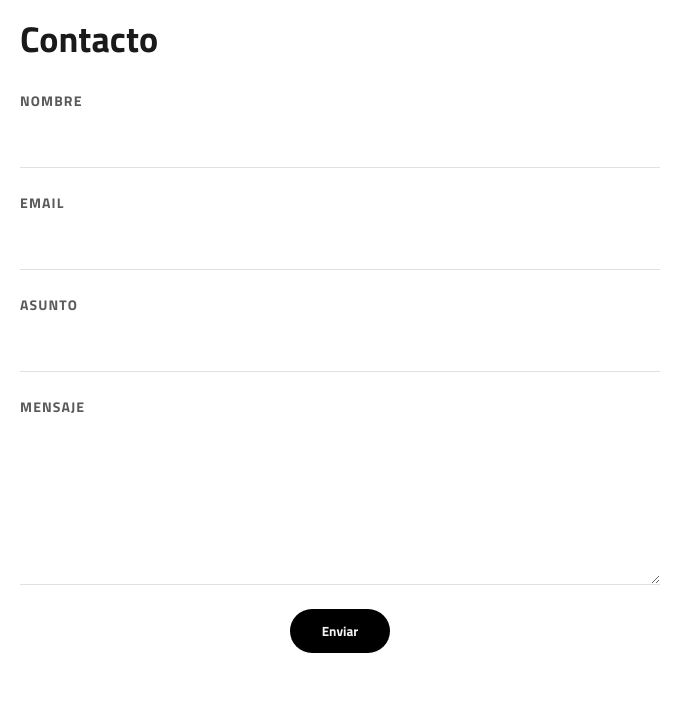
Test: ContactForm › muestra error en 429 RATE_LIMITED
In the field labelled "Nombre": (340, 144) [20, 119, 660, 168], type "Ana"
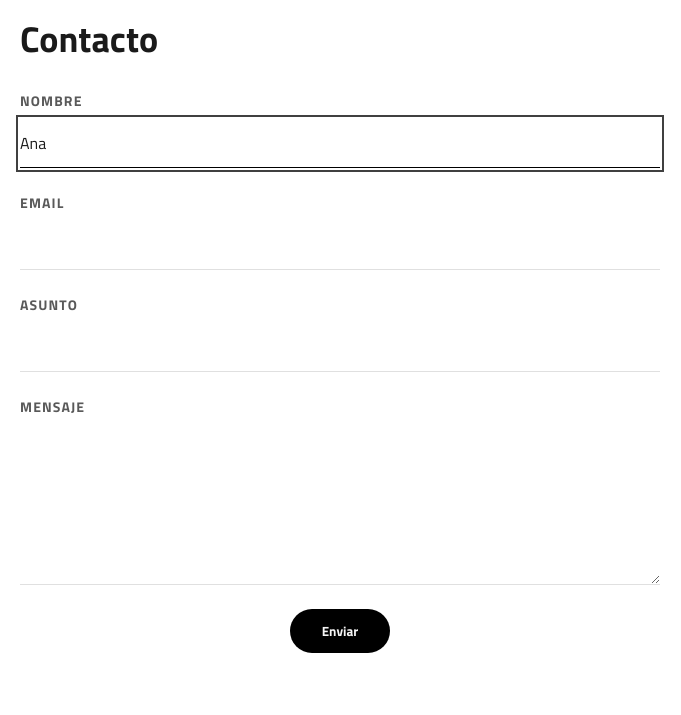
In the field labelled "Email": (340, 246) [20, 221, 660, 270], type "ana@example.com"
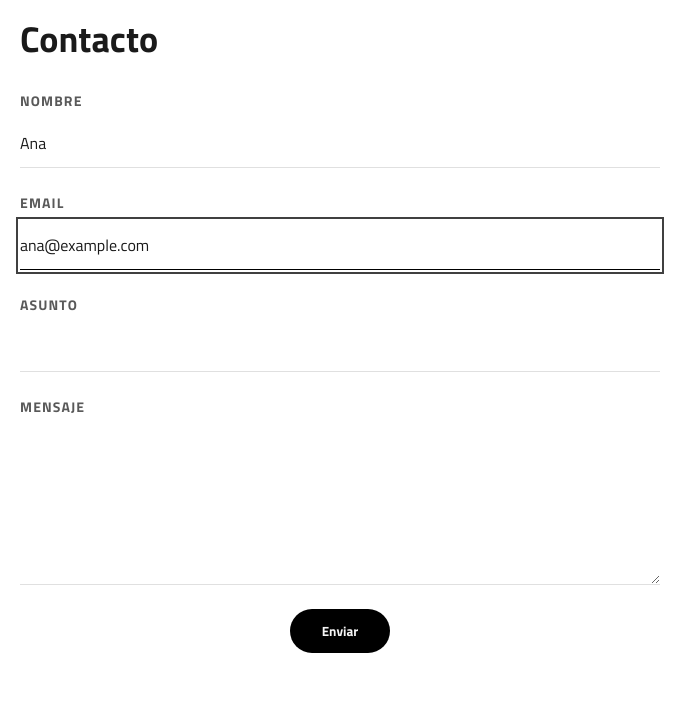
In the field labelled "Asunto": (340, 348) [20, 323, 660, 372], type "Hola"
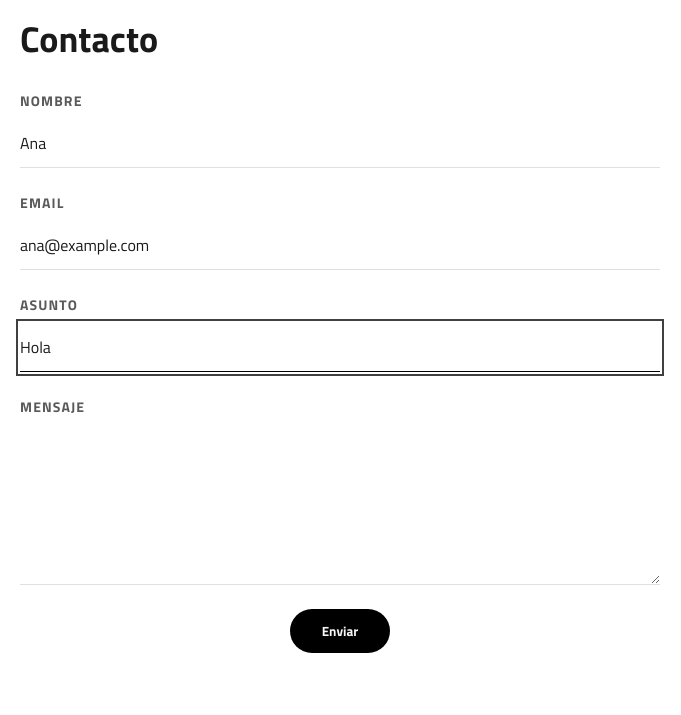
In the text box labelled "Mensaje": (340, 505) [20, 425, 660, 585], type "Quiero comprar una obra"
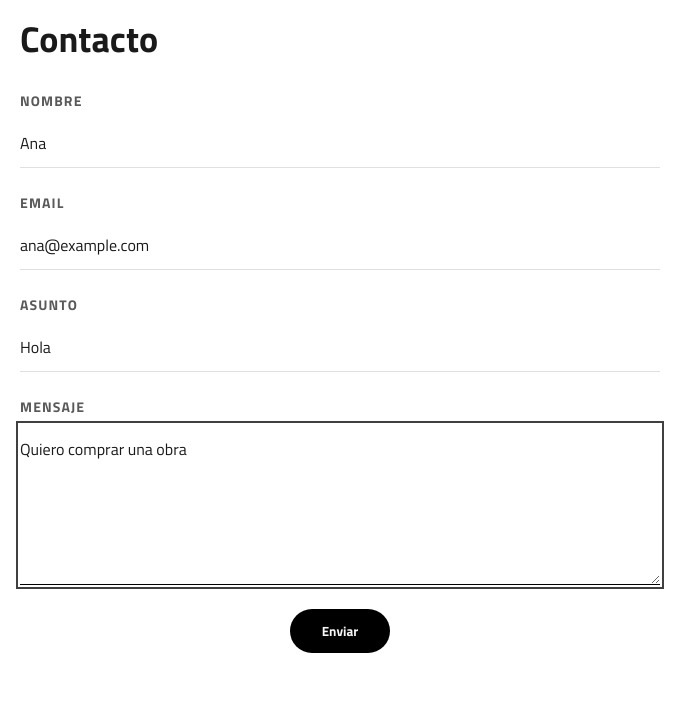
Click the button "Enviar": (340, 631) [290, 609, 390, 653]
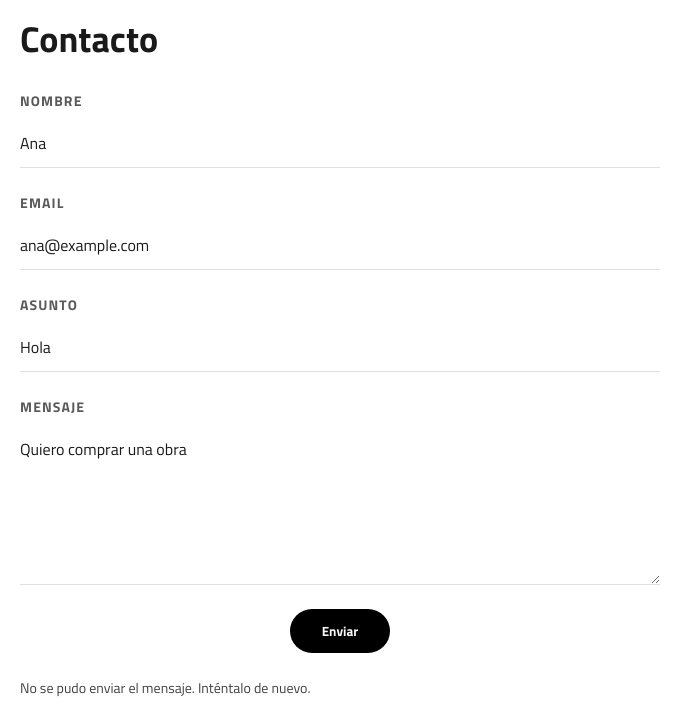
Now the text "No se pudo enviar el mensaje. Inténtalo de nuevo." is shown, box [20, 677, 310, 698]
